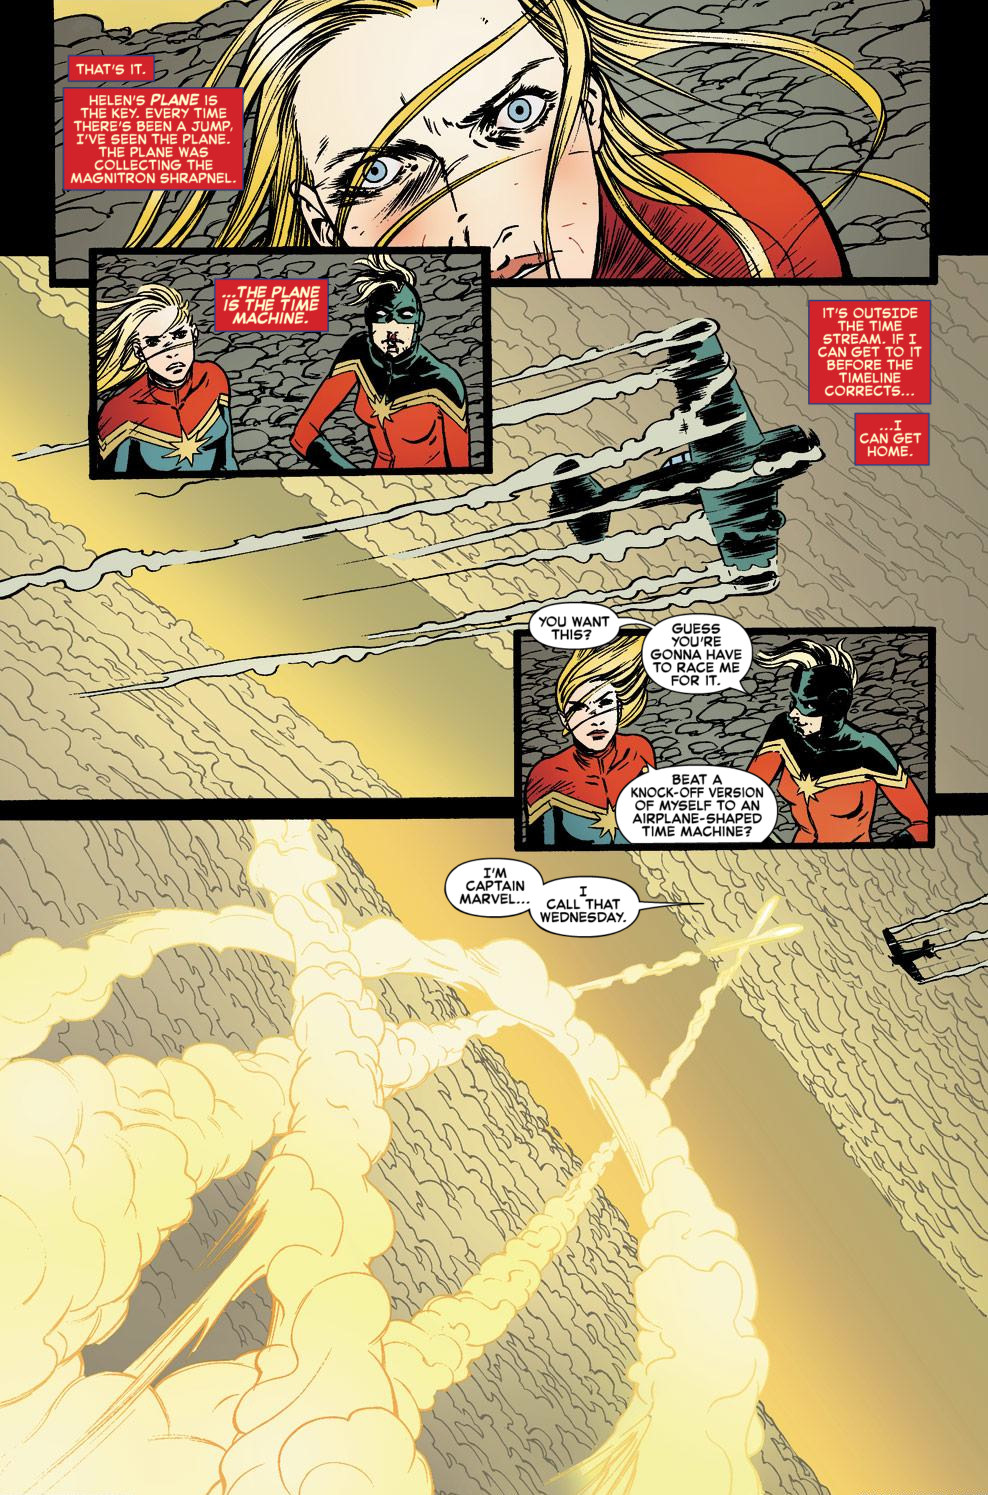Baloon: (438, 856, 706, 943), (63, 90, 244, 190), (597, 761, 781, 843), (810, 302, 931, 400), (642, 611, 749, 697), (217, 279, 326, 327), (522, 606, 633, 652), (853, 411, 926, 467), (65, 54, 158, 84)
Vignetta: (4, 818, 985, 1495), (1, 255, 987, 800), (54, 2, 935, 284), (94, 245, 488, 470), (522, 631, 928, 843)
